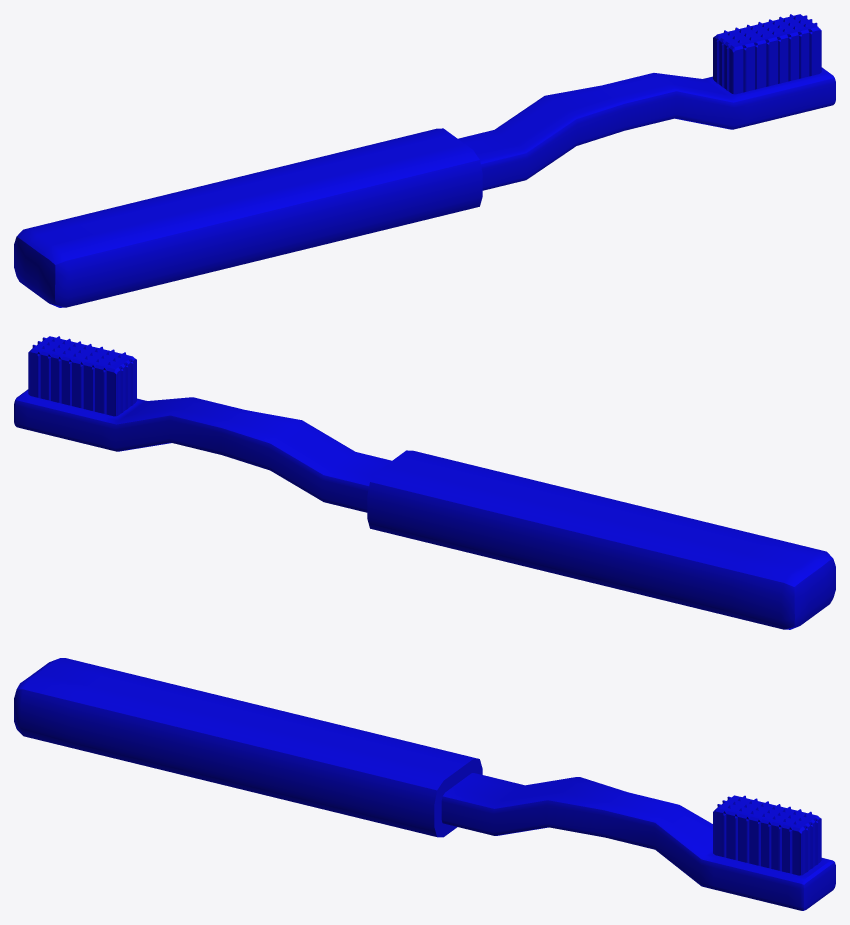
Rendered from Tipo5_Mesh.fbx.
3 views of the same model, one above another, from view 1: azimuth 30°, elevation 25°; view 2: azimuth 150°, elevation 25°; view 3: azimuth 330°, elevation 25° (orthographic).
Parts seen in each view (by area): view 1: Escova_Tipo5_1; view 2: Escova_Tipo5_1; view 3: Escova_Tipo5_1.
Boxes of the visible parts, bbox=[...] form: Escova_Tipo5_1: bbox=[14, 14, 835, 307]; Escova_Tipo5_1: bbox=[14, 336, 835, 629]; Escova_Tipo5_1: bbox=[14, 658, 835, 910].
Size of the model in its own units: 1.34 by 0.15 by 0.1429.
